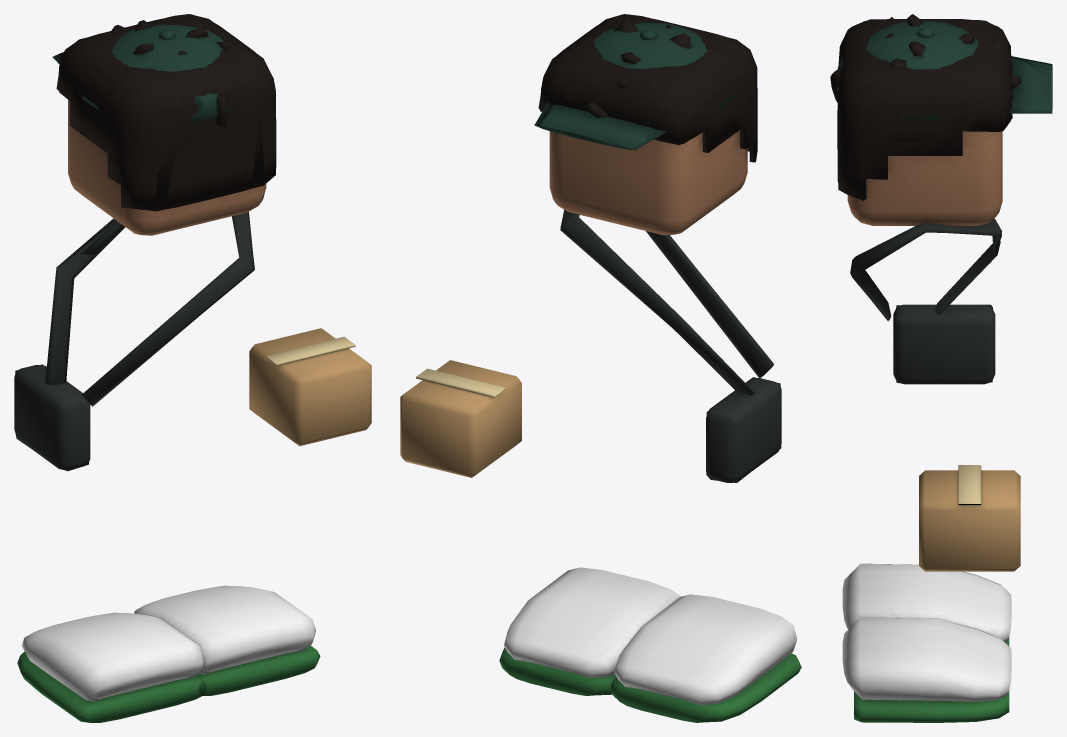
Rendered from Bloque_Oficio_Kevin.fbx.
The picture shows the model from 3 angles, left to right: view 1: azimuth 30°, elevation 25°; view 2: azimuth 150°, elevation 25°; view 3: azimuth 270°, elevation 25°; orthographic projection.
Parts seen in each view (by area): view 1: Pelo, ZapatillaL, Bandolera, ZapatillaR, Paquete, PeloLOD, CabezaBloque, Gorra, GorraLOD, BandoleraLOD; view 2: ZapatillaL, CabezaBloque, ZapatillaR, Bandolera, Pelo, Paquete, PeloLOD, Gorra, GorraLOD, BandoleraLOD; view 3: ZapatillaR, Pelo, Bandolera, Paquete, CabezaBloque, ZapatillaL, PeloLOD, Gorra, GorraLOD, BandoleraLOD.
Boxes of the visible parts, x1,y1,x2,y2 form: Pelo: (58,14,276,211); ZapatillaL: (17,612,206,722); Bandolera: (14,211,254,469); ZapatillaR: (134,585,320,695); Paquete: (249,328,371,446); PeloLOD: (56,14,275,211); CabezaBloque: (68,100,266,235); Gorra: (53,25,234,121); GorraLOD: (59,24,228,122); BandoleraLOD: (15,219,254,471); ZapatillaL: (611,594,801,722); CabezaBloque: (549,130,747,235); ZapatillaR: (499,567,680,695); Bandolera: (560,209,781,482); Pelo: (540,15,757,162); Paquete: (400,360,521,477); PeloLOD: (538,14,757,157); Gorra: (534,23,735,149); GorraLOD: (534,23,707,150); BandoleraLOD: (560,212,781,482); ZapatillaR: (842,617,1011,722); Pelo: (830,14,1021,200); Bandolera: (850,218,1002,384); Paquete: (919,465,1020,571); CabezaBloque: (847,131,1002,225); ZapatillaL: (842,563,1011,645); PeloLOD: (831,14,1020,193); Gorra: (836,21,1052,119); GorraLOD: (837,21,1052,113); BandoleraLOD: (852,234,999,383).
Bounding box in the file's own units: 297 × 556 × 175.
